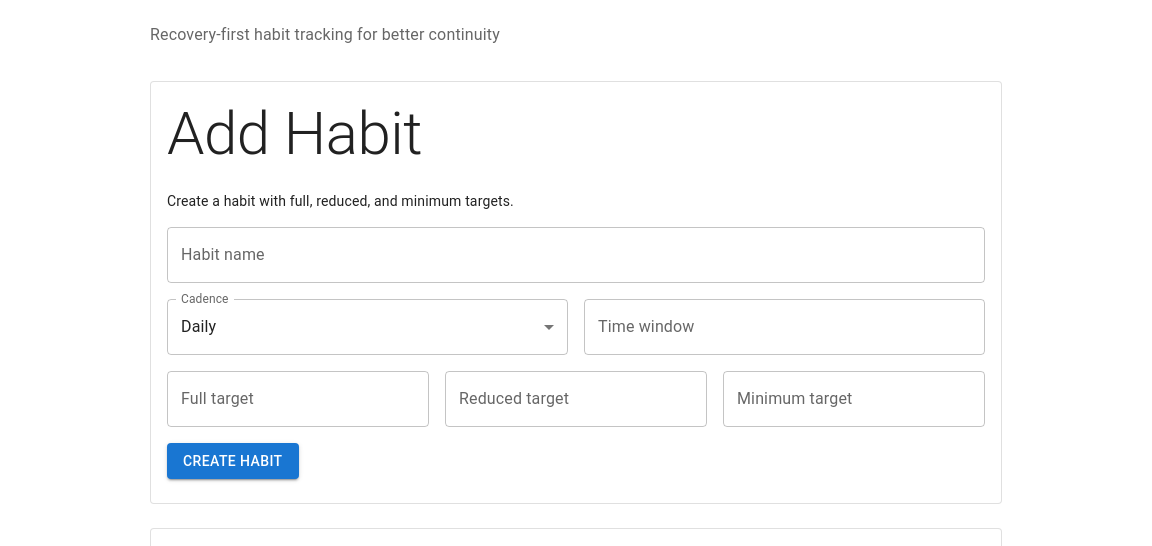
Test case: Story 1.1 tiered habit creation › creates a habit from add-habit form input and shows it in daily queue
Type "Hydration" into the field labelled "Habit name" at (576, 255), box left=167, top=227, right=985, bottom=283
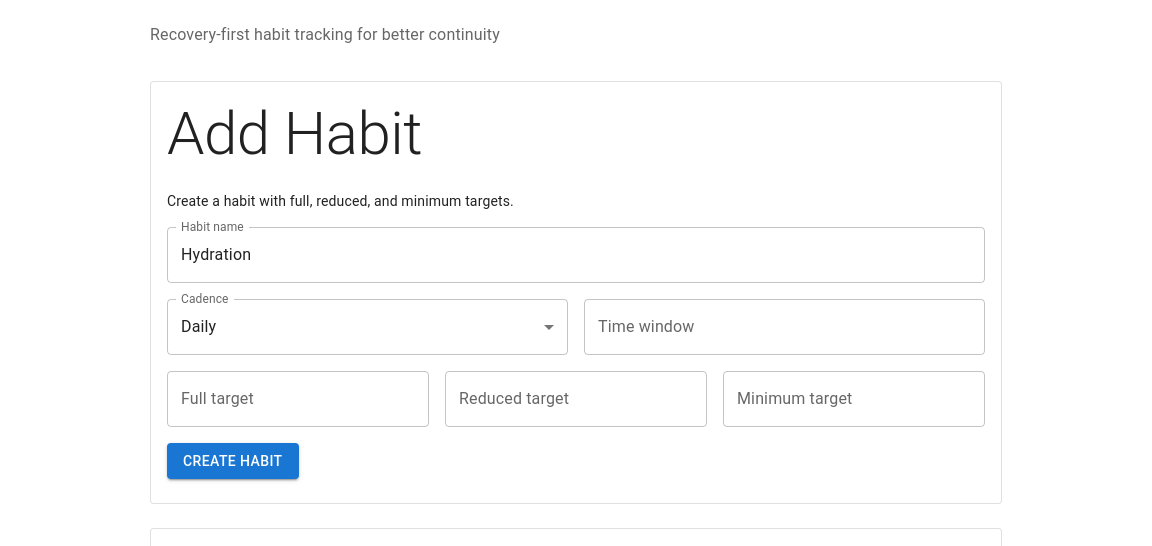
Type "Morning" into the field labelled "Time window" at (784, 327), box left=584, top=299, right=985, bottom=355
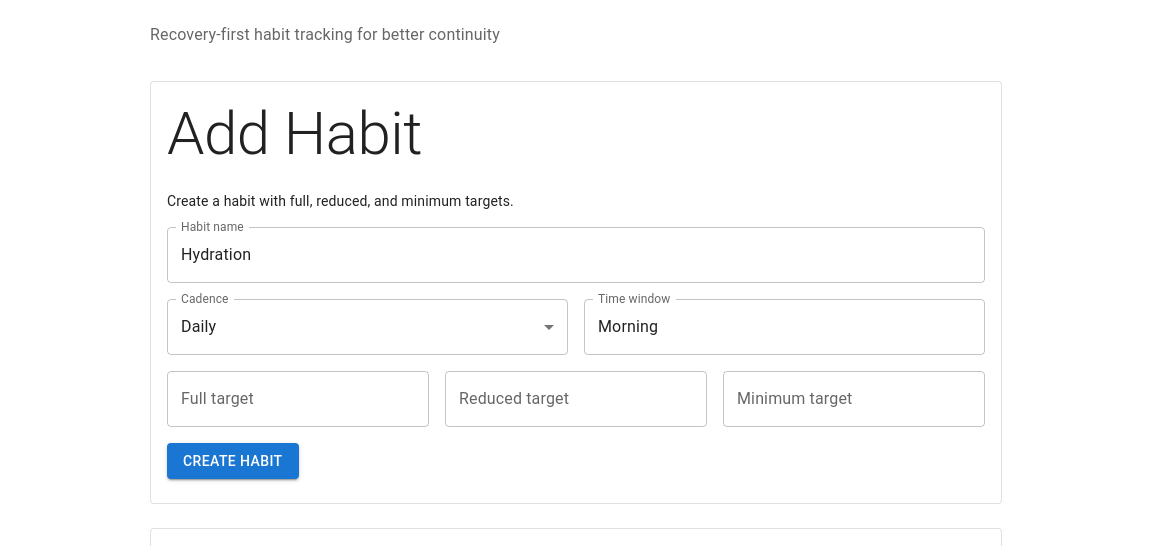
Type "Drink 64oz water" into the field labelled "Full target" at (298, 399), box left=167, top=371, right=429, bottom=427
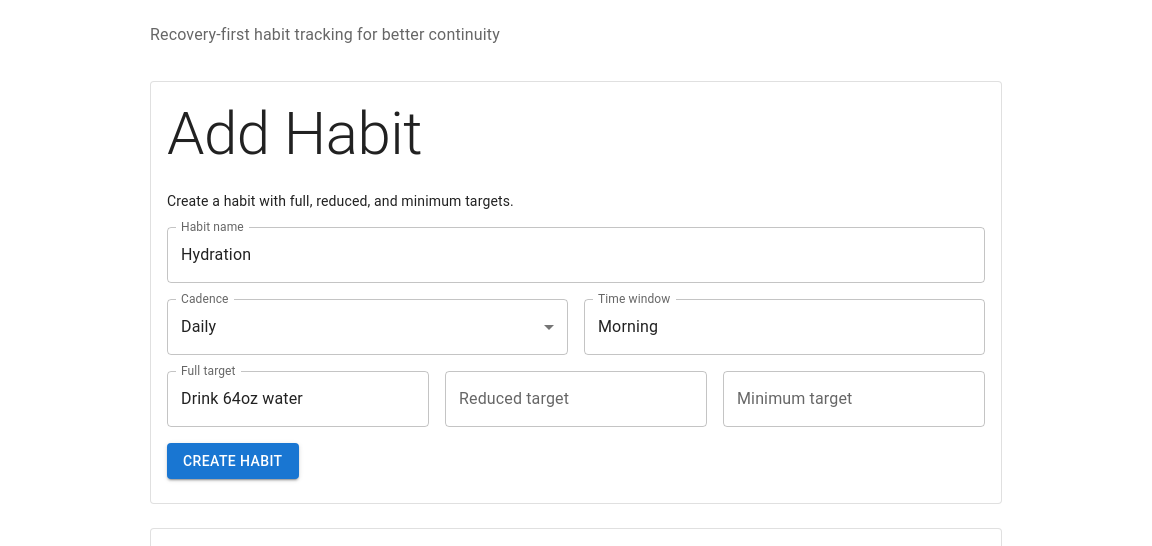
Type "Drink 32oz water" into the field labelled "Reduced target" at (576, 399), box left=445, top=371, right=707, bottom=427
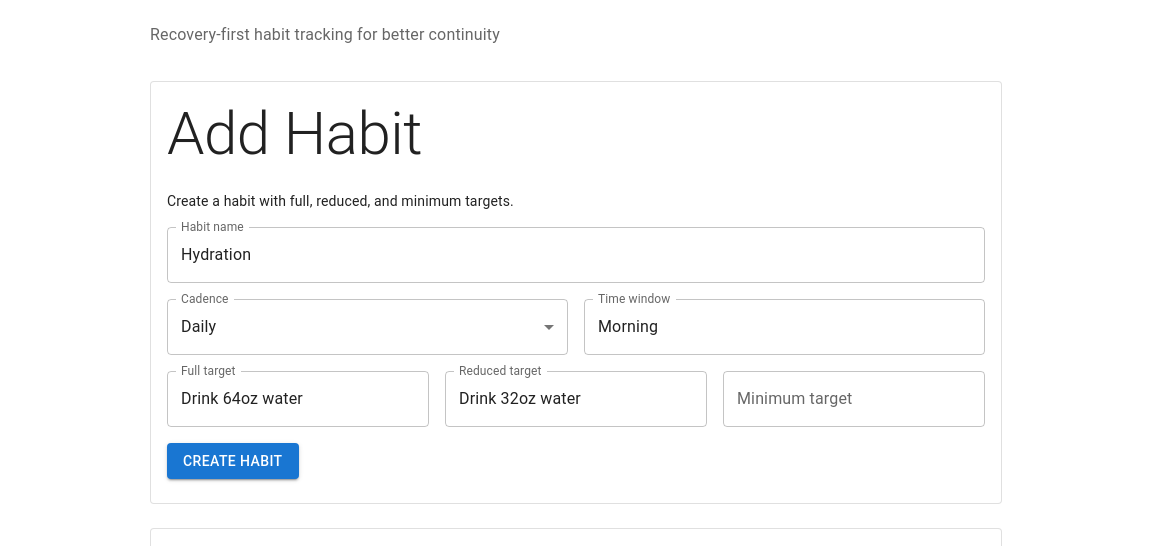
Type "Drink 8oz water" into the field labelled "Minimum target" at (854, 399), box left=723, top=371, right=985, bottom=427
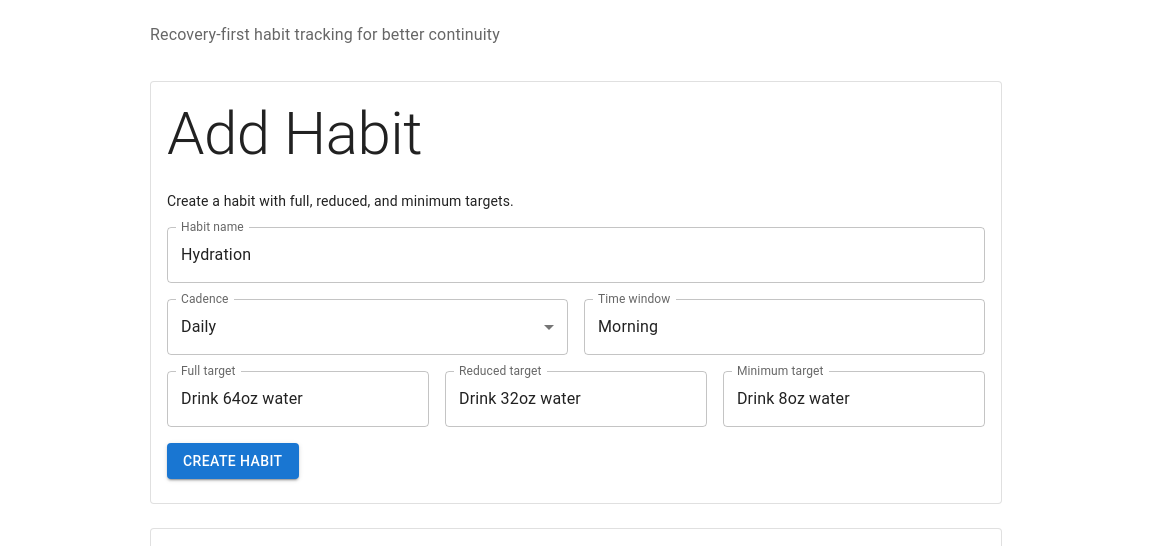
Click the button "Create habit" at (233, 461), box left=167, top=443, right=298, bottom=479
(page scrolled)
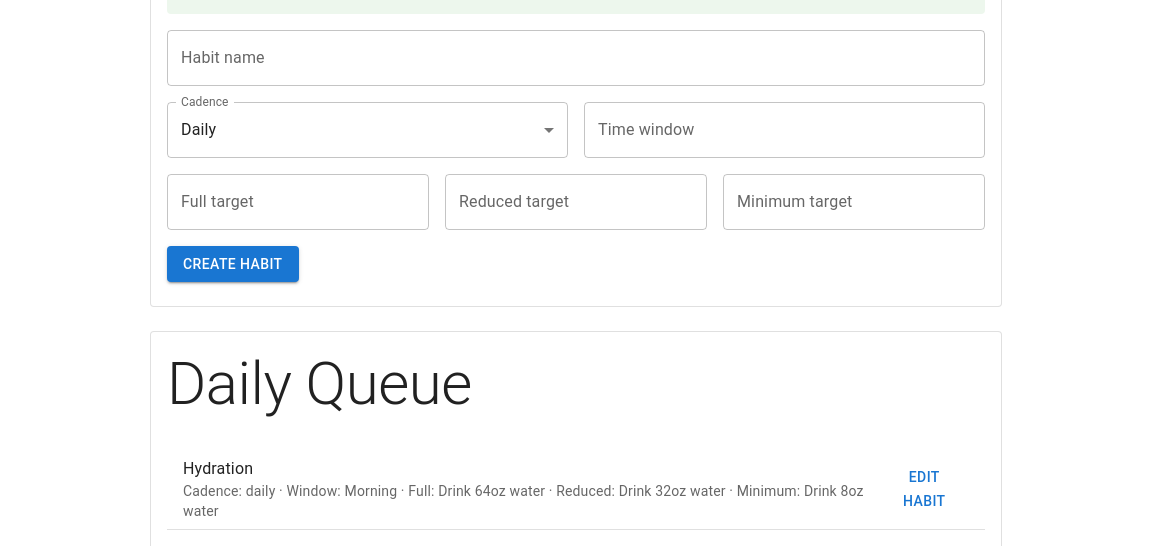
Check: the text "Hydration" is shown, box left=183, top=459, right=253, bottom=478
Check: the text "Cadence: daily · Window: Morning · Full: Drink 64oz water · Reduced: Drink 32oz water · Minimum: Drink 8oz water" is shown, box left=183, top=483, right=864, bottom=519
